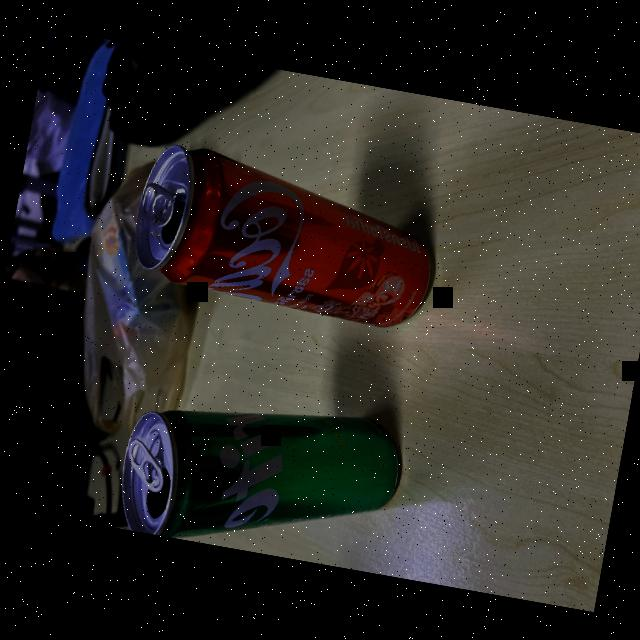can: (110, 126, 458, 352), (109, 365, 413, 575)
